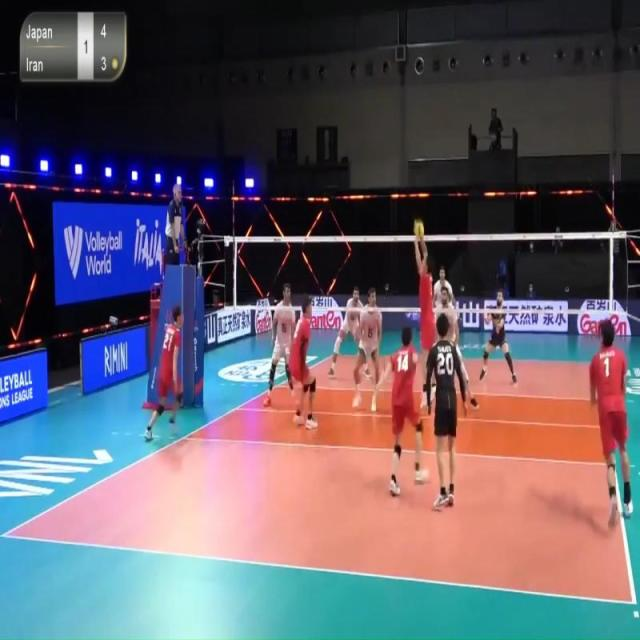volleyball: (412, 218, 426, 240)
